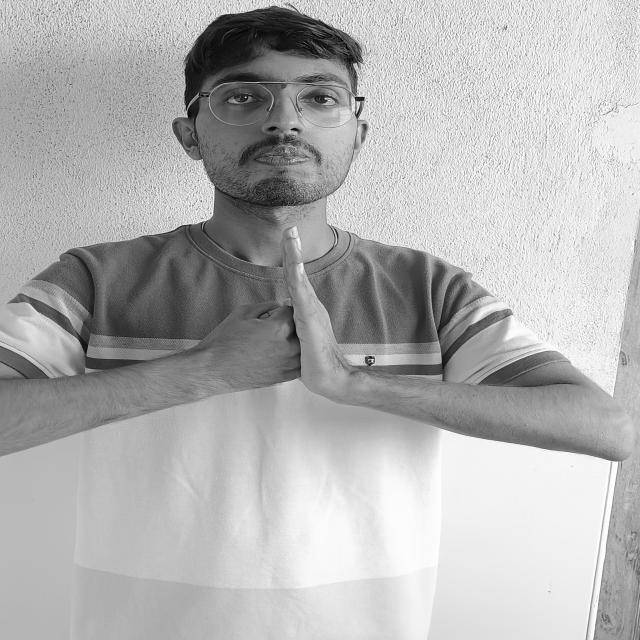Well Done: (121, 217, 459, 424)
